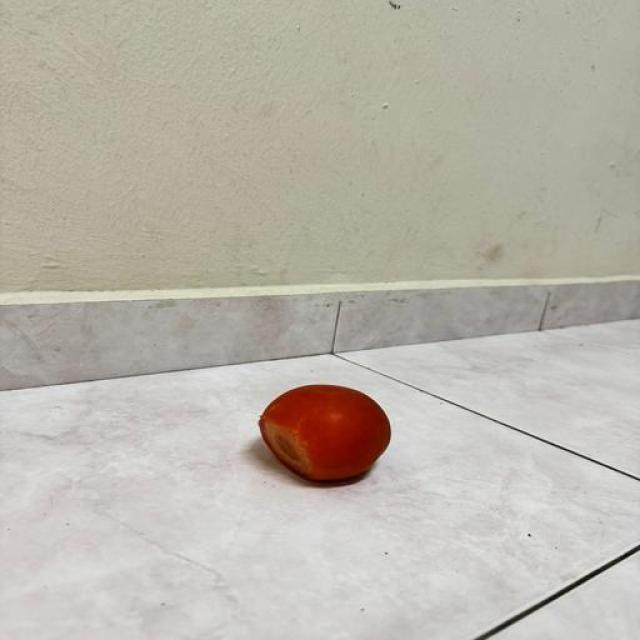organic: (259, 385, 389, 479)
